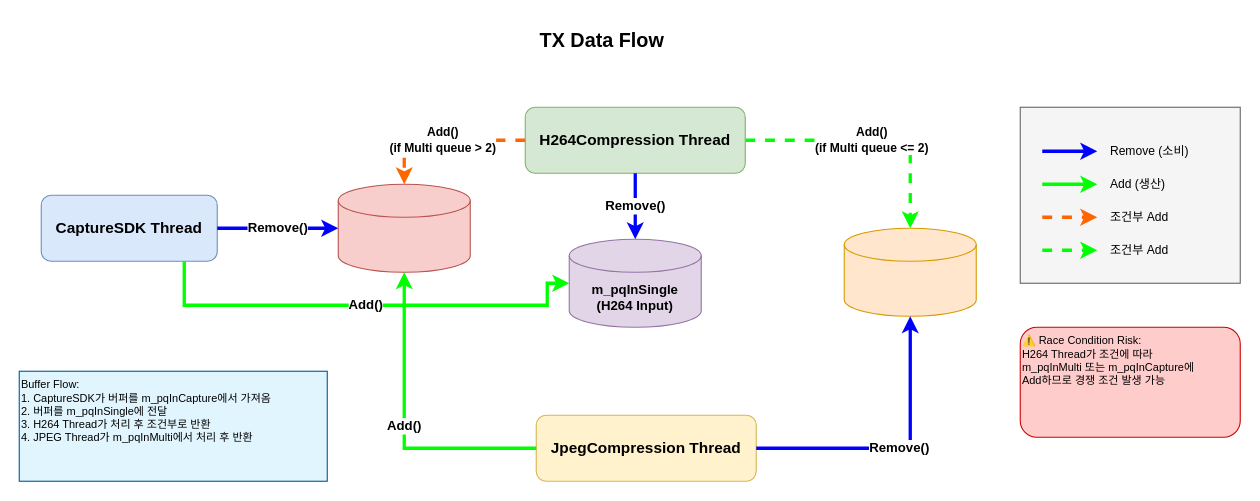
The diagram is 1260 pixels wide and 501 high, and some of its shapes have lost their labels. The box of each missing label's shape, as (x1, y1, x2, y2) in pixels:
Legend: (1019, 106, 1240, 283)
m_pqInCapture (Buffer Pool): (337, 183, 470, 272)
m_pqInMulti (JPEG Input): (843, 227, 976, 316)
